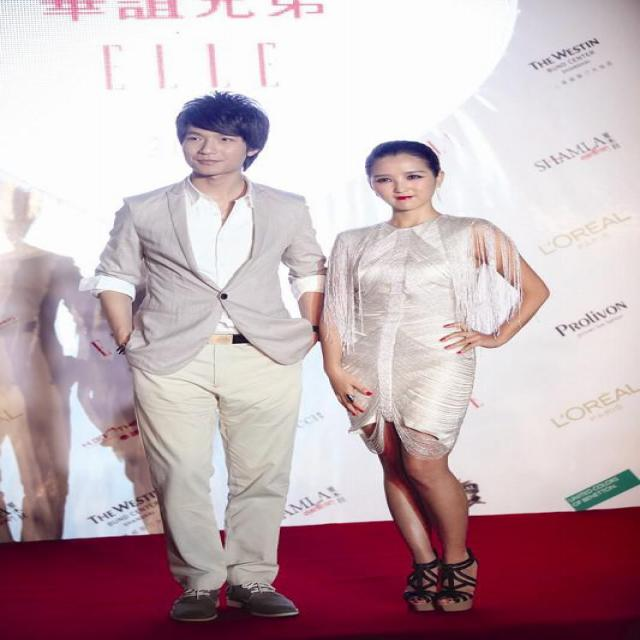Manusia: (71, 75, 325, 639), (316, 133, 560, 615)
